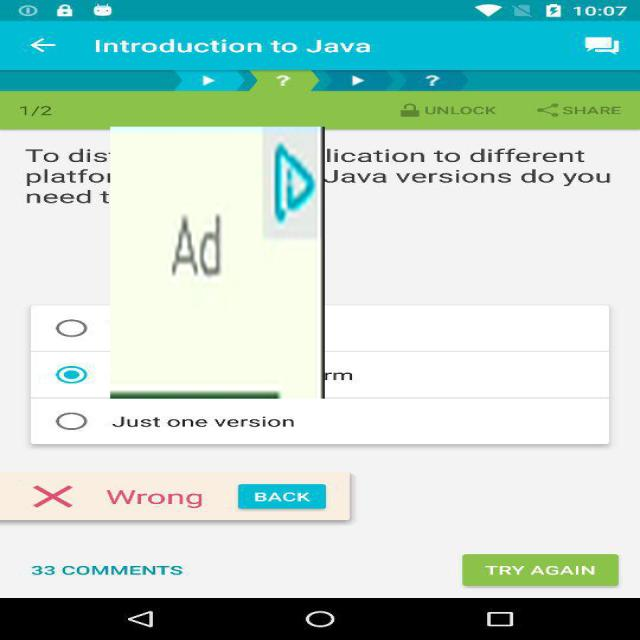sneaking: (110, 126, 325, 398)
